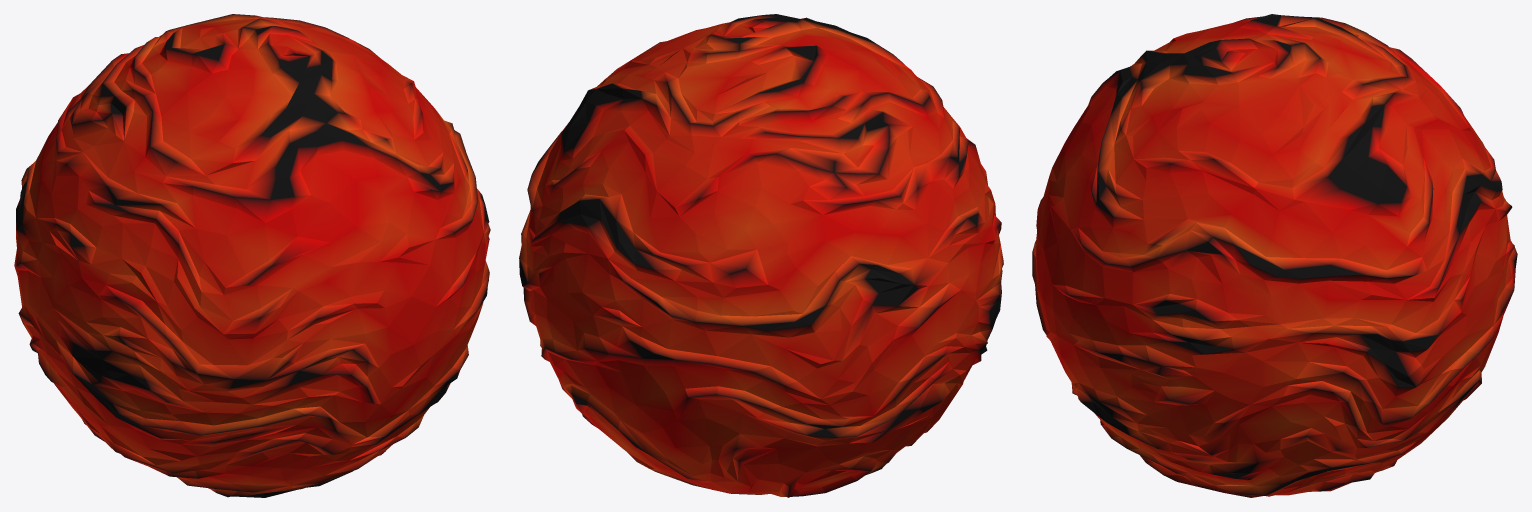
Rendered from volcanic_planet_8.fbx.
3 renders of one model, left to right at view 1: azimuth 30°, elevation 25°; view 2: azimuth 150°, elevation 25°; view 3: azimuth 270°, elevation 25°, orthographic.
Parts seen in each view (by area): view 1: filecache2; view 2: filecache2; view 3: filecache2.
Boxes of the visible parts, <box> form: filecache2: <box>14,14,490,497</box>; filecache2: <box>519,14,1003,497</box>; filecache2: <box>1032,14,1517,497</box>.
Size of the model in its own units: 2.02 by 2.05 by 2.04.
